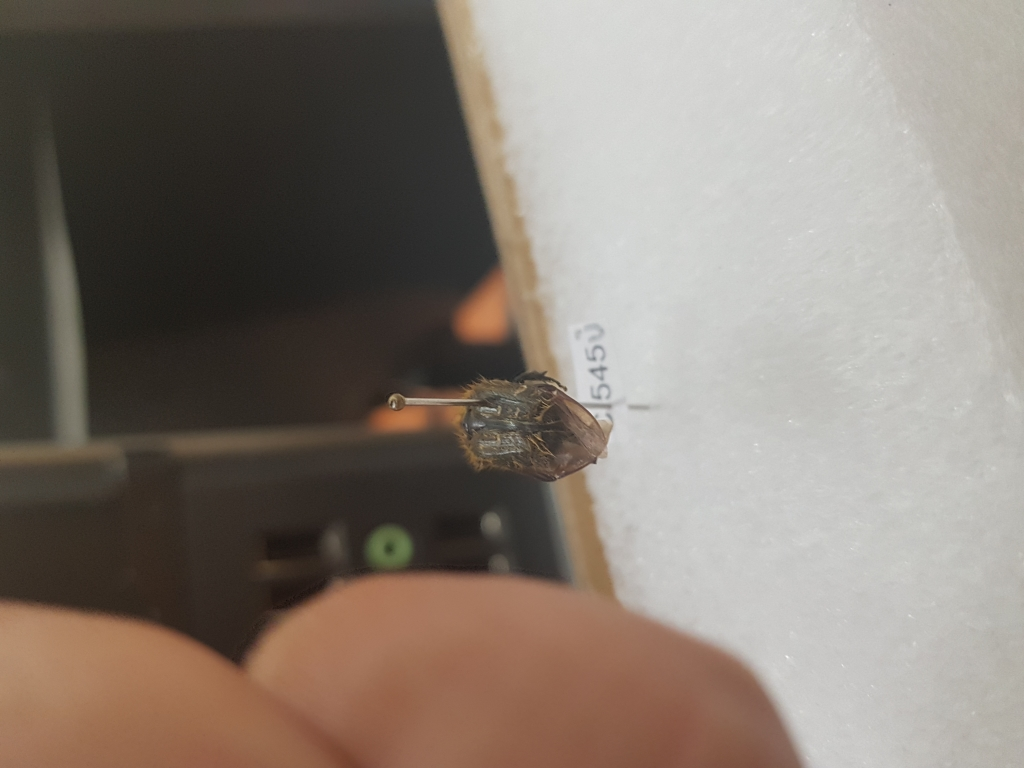Tropinota_hirta: (444, 357, 622, 482)
